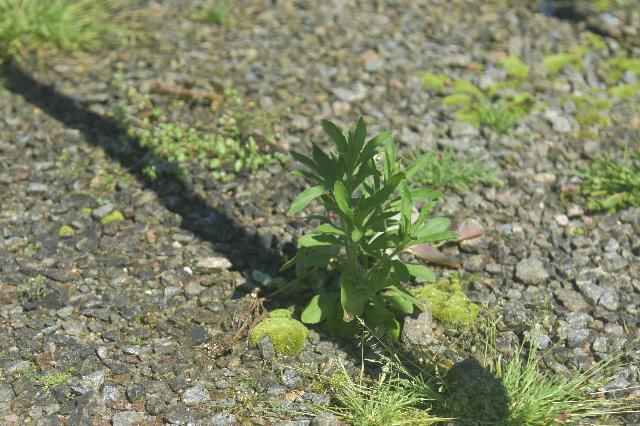MalezaMontesDelPlata: (293, 114, 427, 319), (323, 350, 605, 426)
MusgoMontesDelPlata: (411, 278, 487, 325), (243, 317, 308, 359), (93, 206, 127, 230)
